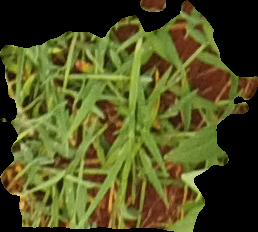grass: (1, 1, 257, 231)
